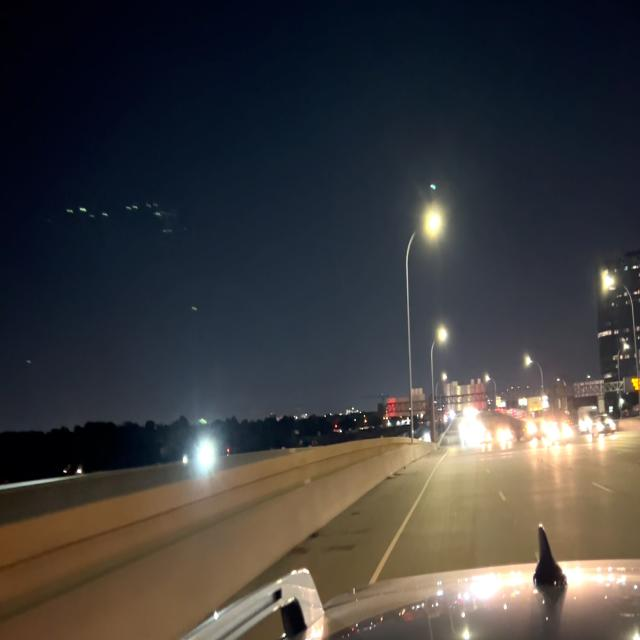back-of-sign: (441, 378, 487, 415), (386, 387, 427, 422), (574, 375, 606, 401)
